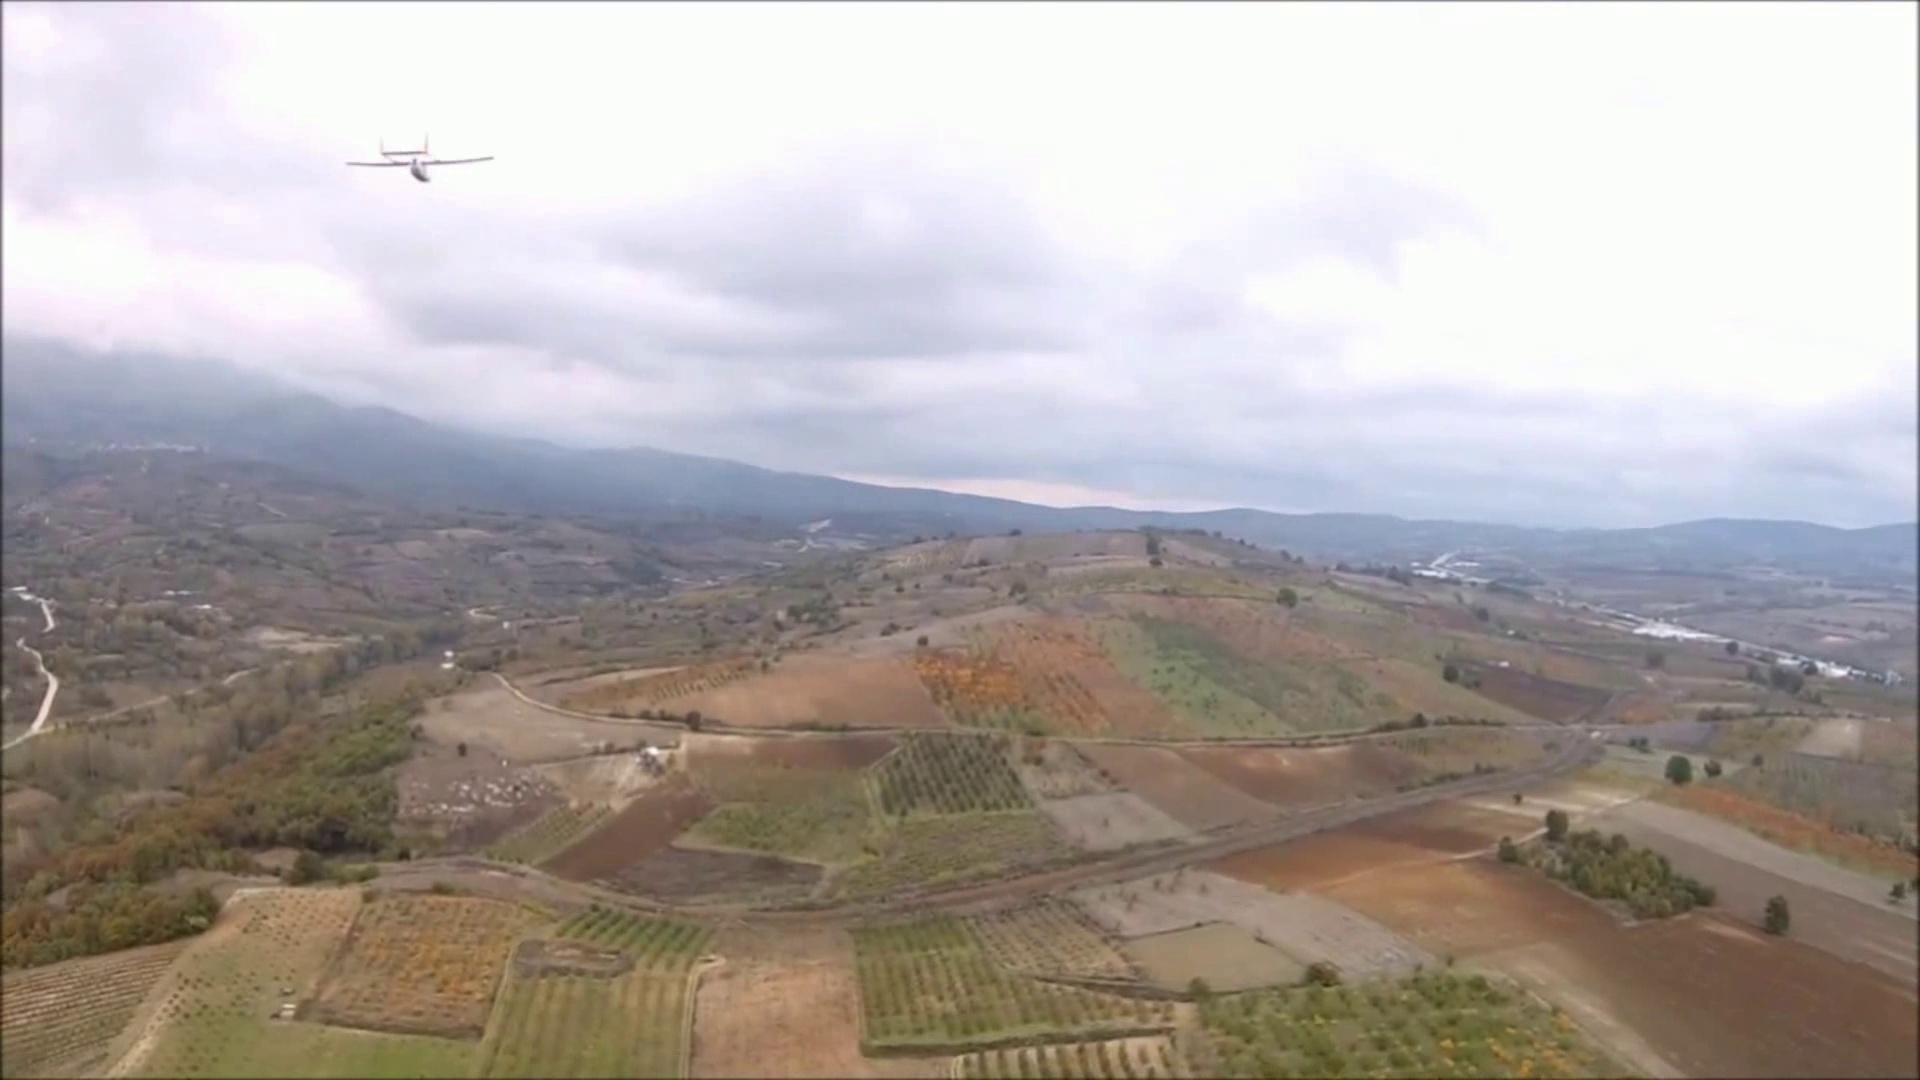airplane: (341, 134, 495, 183)
